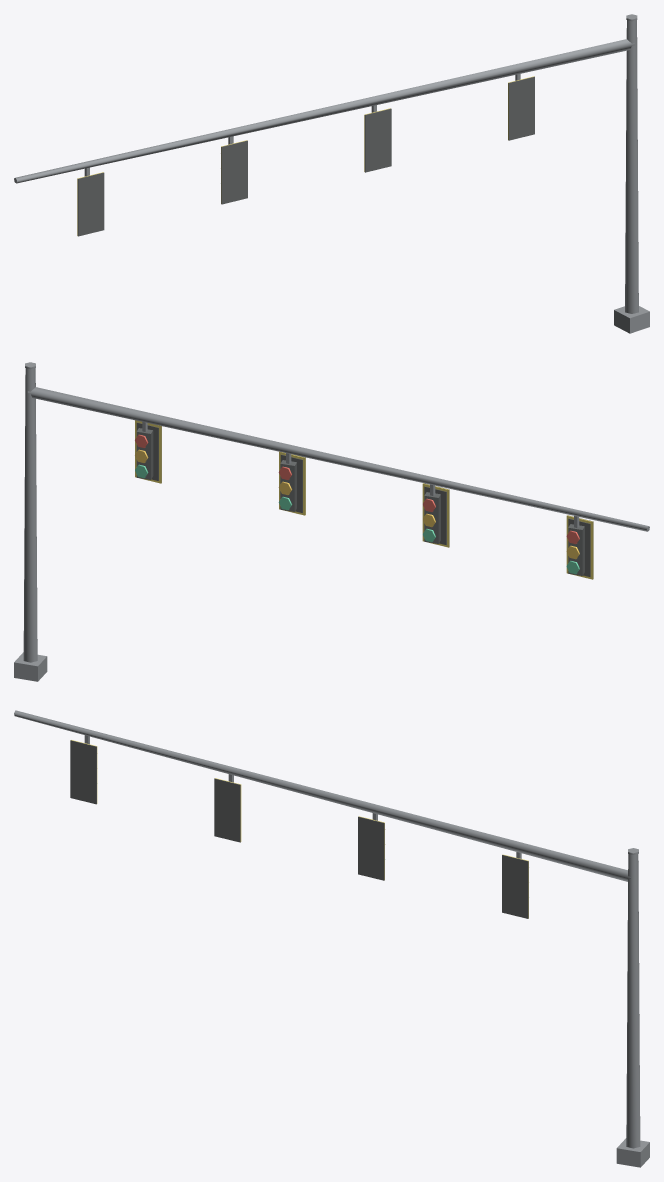
File: signal-4-far.glb
3 views of the same model, one above another, from view 1: azimuth 30°, elevation 25°; view 2: azimuth 150°, elevation 25°; view 3: azimuth 330°, elevation 25° (orthographic).
Visible parts, largest first — view 1: signal-4-far; view 2: signal-4-far; view 3: signal-4-far.
Part boxes in pixels (<box>): signal-4-far: <box>14,14,649,333</box>; signal-4-far: <box>14,362,649,681</box>; signal-4-far: <box>14,710,649,1167</box>.
Bounding box in the file's own units: 2.13 × 1 × 0.0857.
